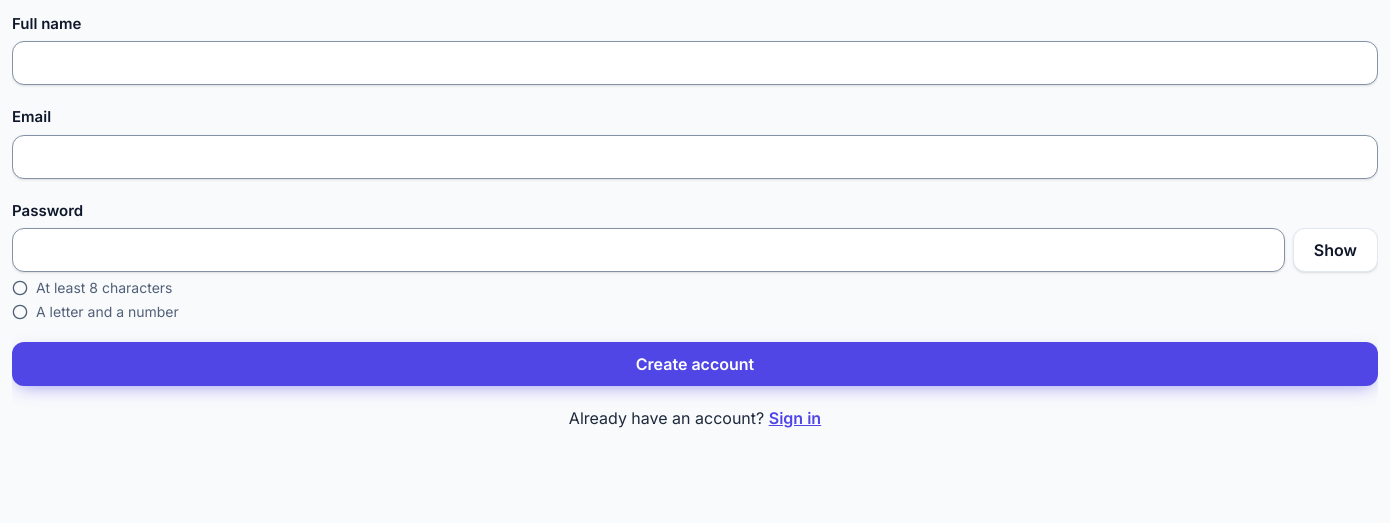
it: SignUpForm › validates inline before sending anything
The image size is (1390, 523).
In the field with test id "signup-email-input": point(695, 156) left=12, top=134, right=1378, bottom=178, type "nope"
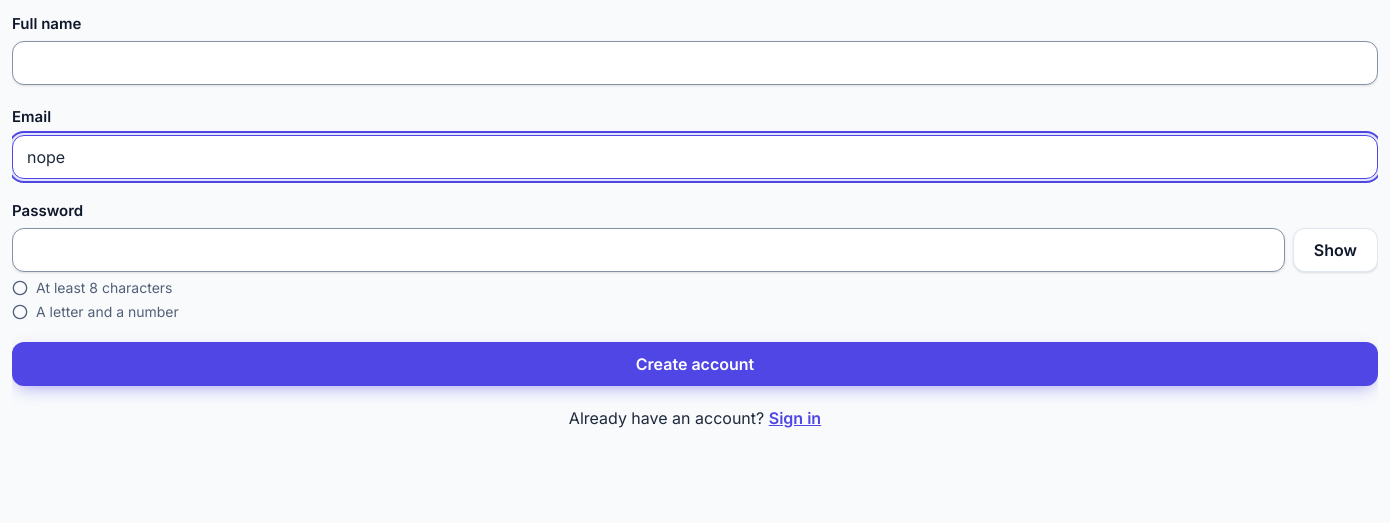
In the password field with test id "signup-password-input": point(648, 250) left=12, top=228, right=1285, bottom=272, type "short"
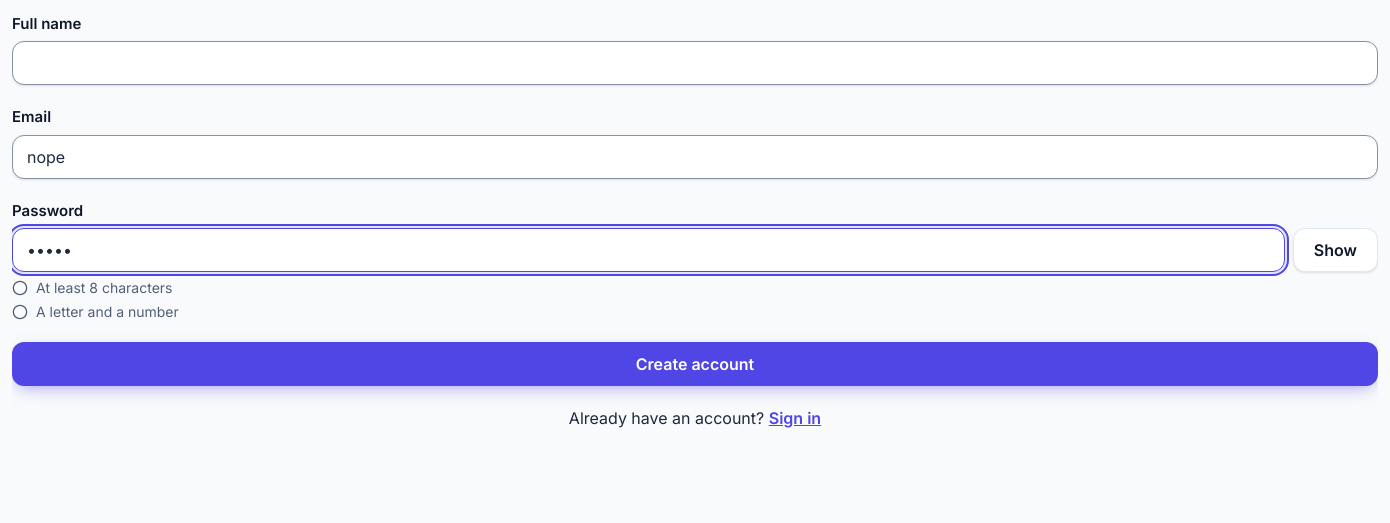
Click the button with test id "signup-submit-button": point(695, 364) left=12, top=342, right=1378, bottom=386
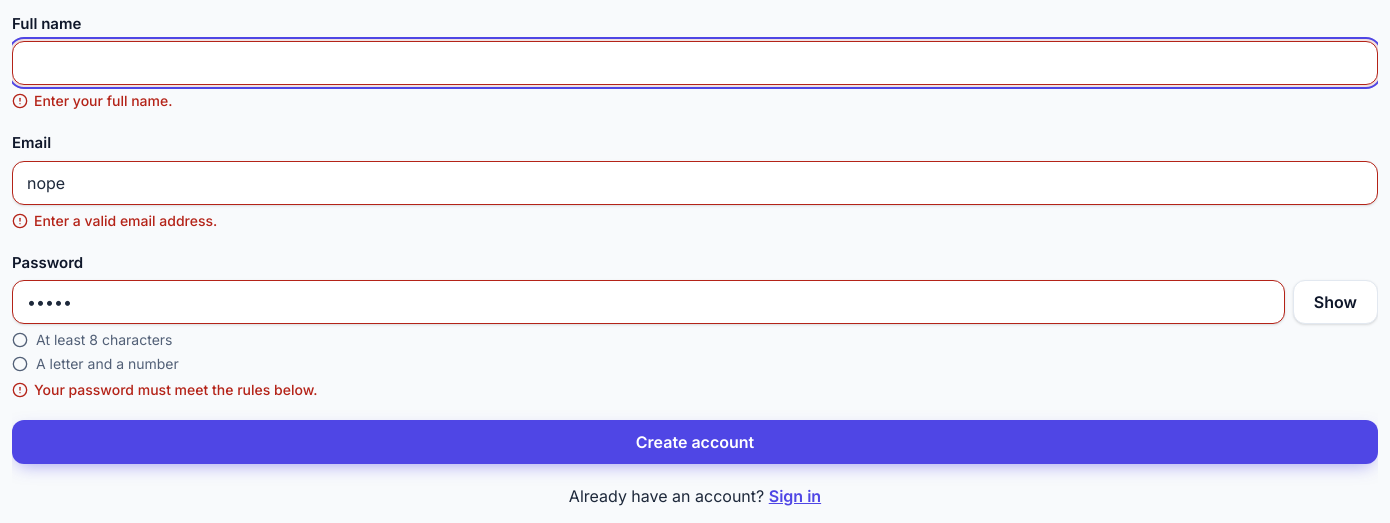
Expected: the text "Enter your full name." is shown, left=34, top=91, right=172, bottom=111
Expected: the text "Enter a valid email address." is shown, left=34, top=210, right=217, bottom=230
